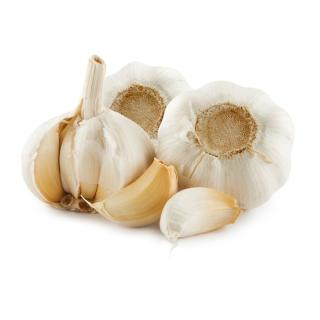Bawang Putih: (37, 62, 320, 320)
